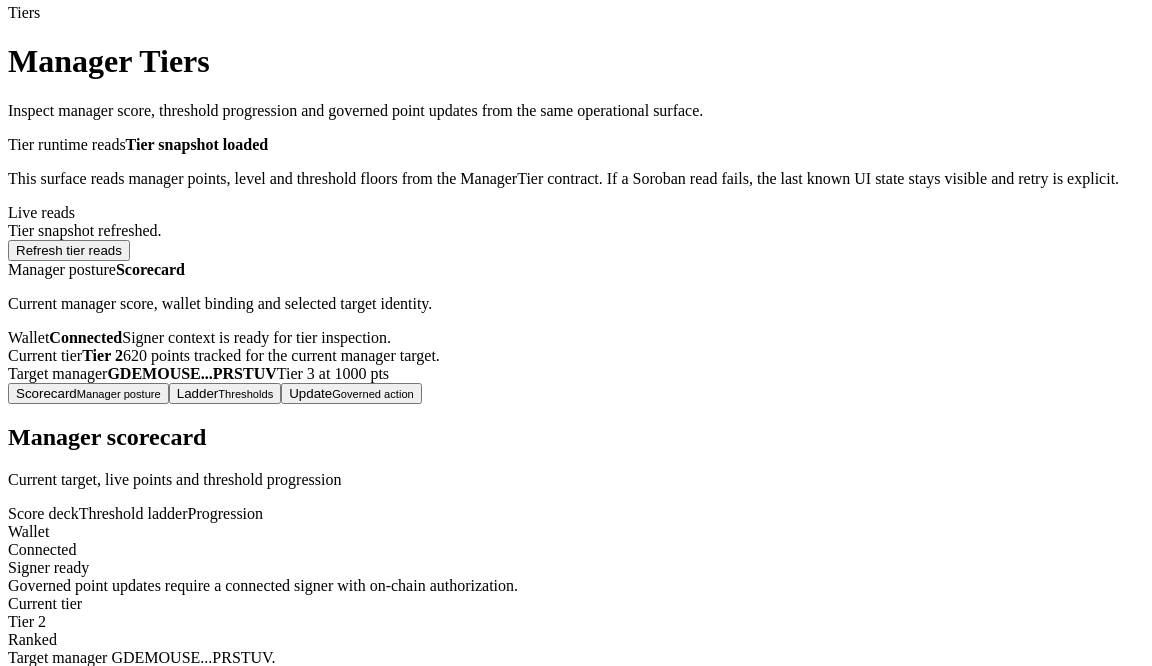
Test: live ops surfaces › renders manager tiers with scorecard and governed action panels
This screenshot has width=1152, height=666.
Expected: the heading "Manager Tiers" is shown, top-left (8, 43), bottom-right (210, 79)
Expected: the element with test id "tiers-state-panel" shows "Score deck", top-left (8, 505), bottom-right (79, 522)
Click the button with test id "tiers-workspace-tab-ladder".
click(225, 393)  # box top-left (169, 383), bottom-right (281, 404)
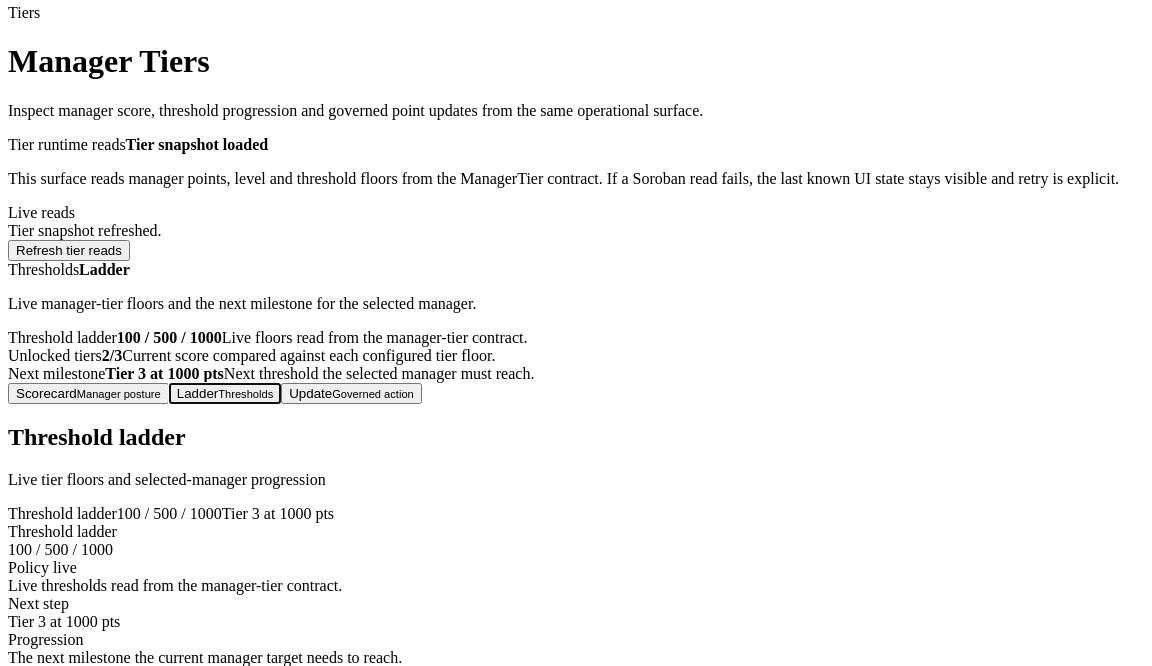
Now the element with test id "tiers-ladder-panel" shows "Threshold ladder", box top-left (8, 424), bottom-right (186, 450)
Click the button with test id "tiers-workspace-tab-update".
click(351, 393)  # box top-left (281, 383), bottom-right (422, 404)
(page scrolled)
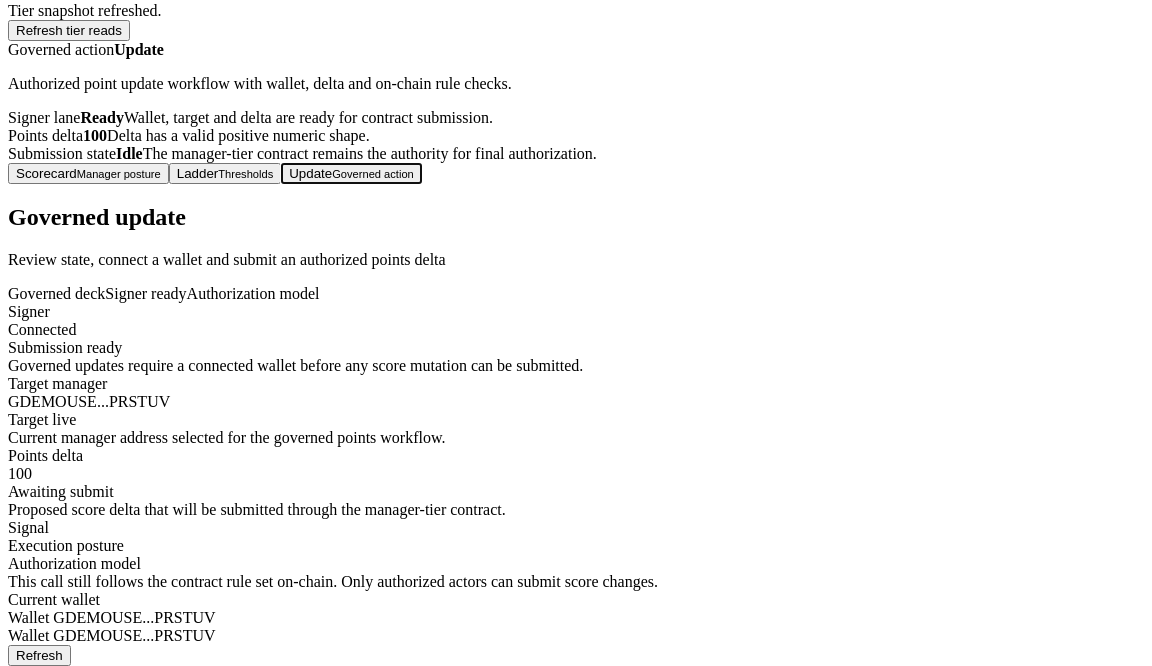
Now the element with test id "tiers-actions-table" shows "Authorization model", box top-left (8, 555), bottom-right (141, 572)
Now the element with test id "tiers-actions-panel" shows "Governed deck", box top-left (8, 285), bottom-right (105, 302)
Now the element with test id "tiers-actions-panel" shows "Authorization model", box top-left (187, 285), bottom-right (320, 302)
